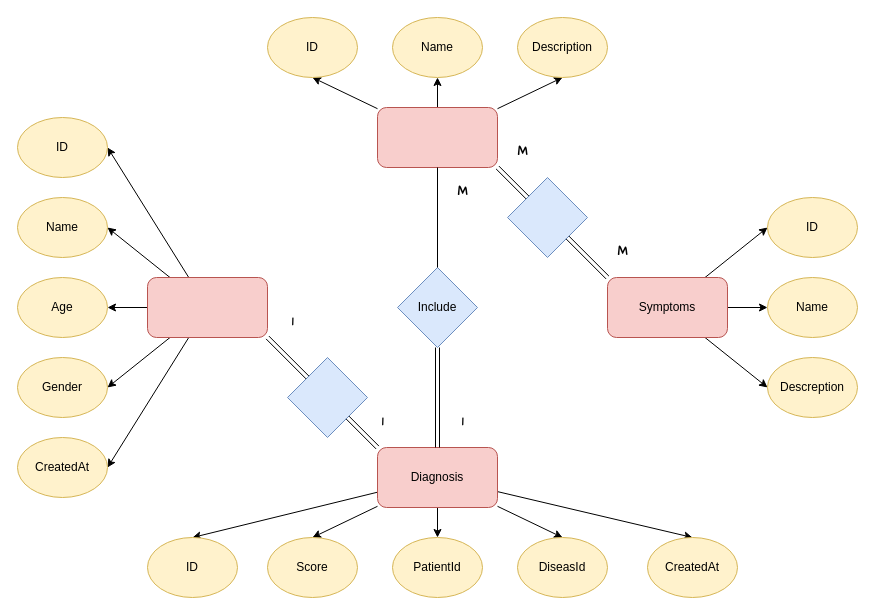
Image size: 875x615. Some labels were removed from this diagram. The shapes that lost their labels are listed below. From the top down, each one's centre as x and y in pixels, then its label:
At point 437,137: "Diseases".
At point 547,217: "Have".
At point 207,307: "Patients".
At point 327,397: "Get".
